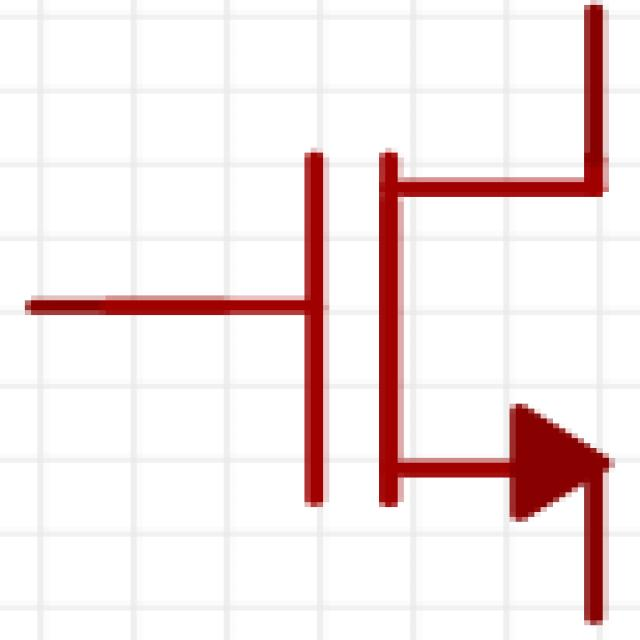nmos: (37, 15, 640, 615)
